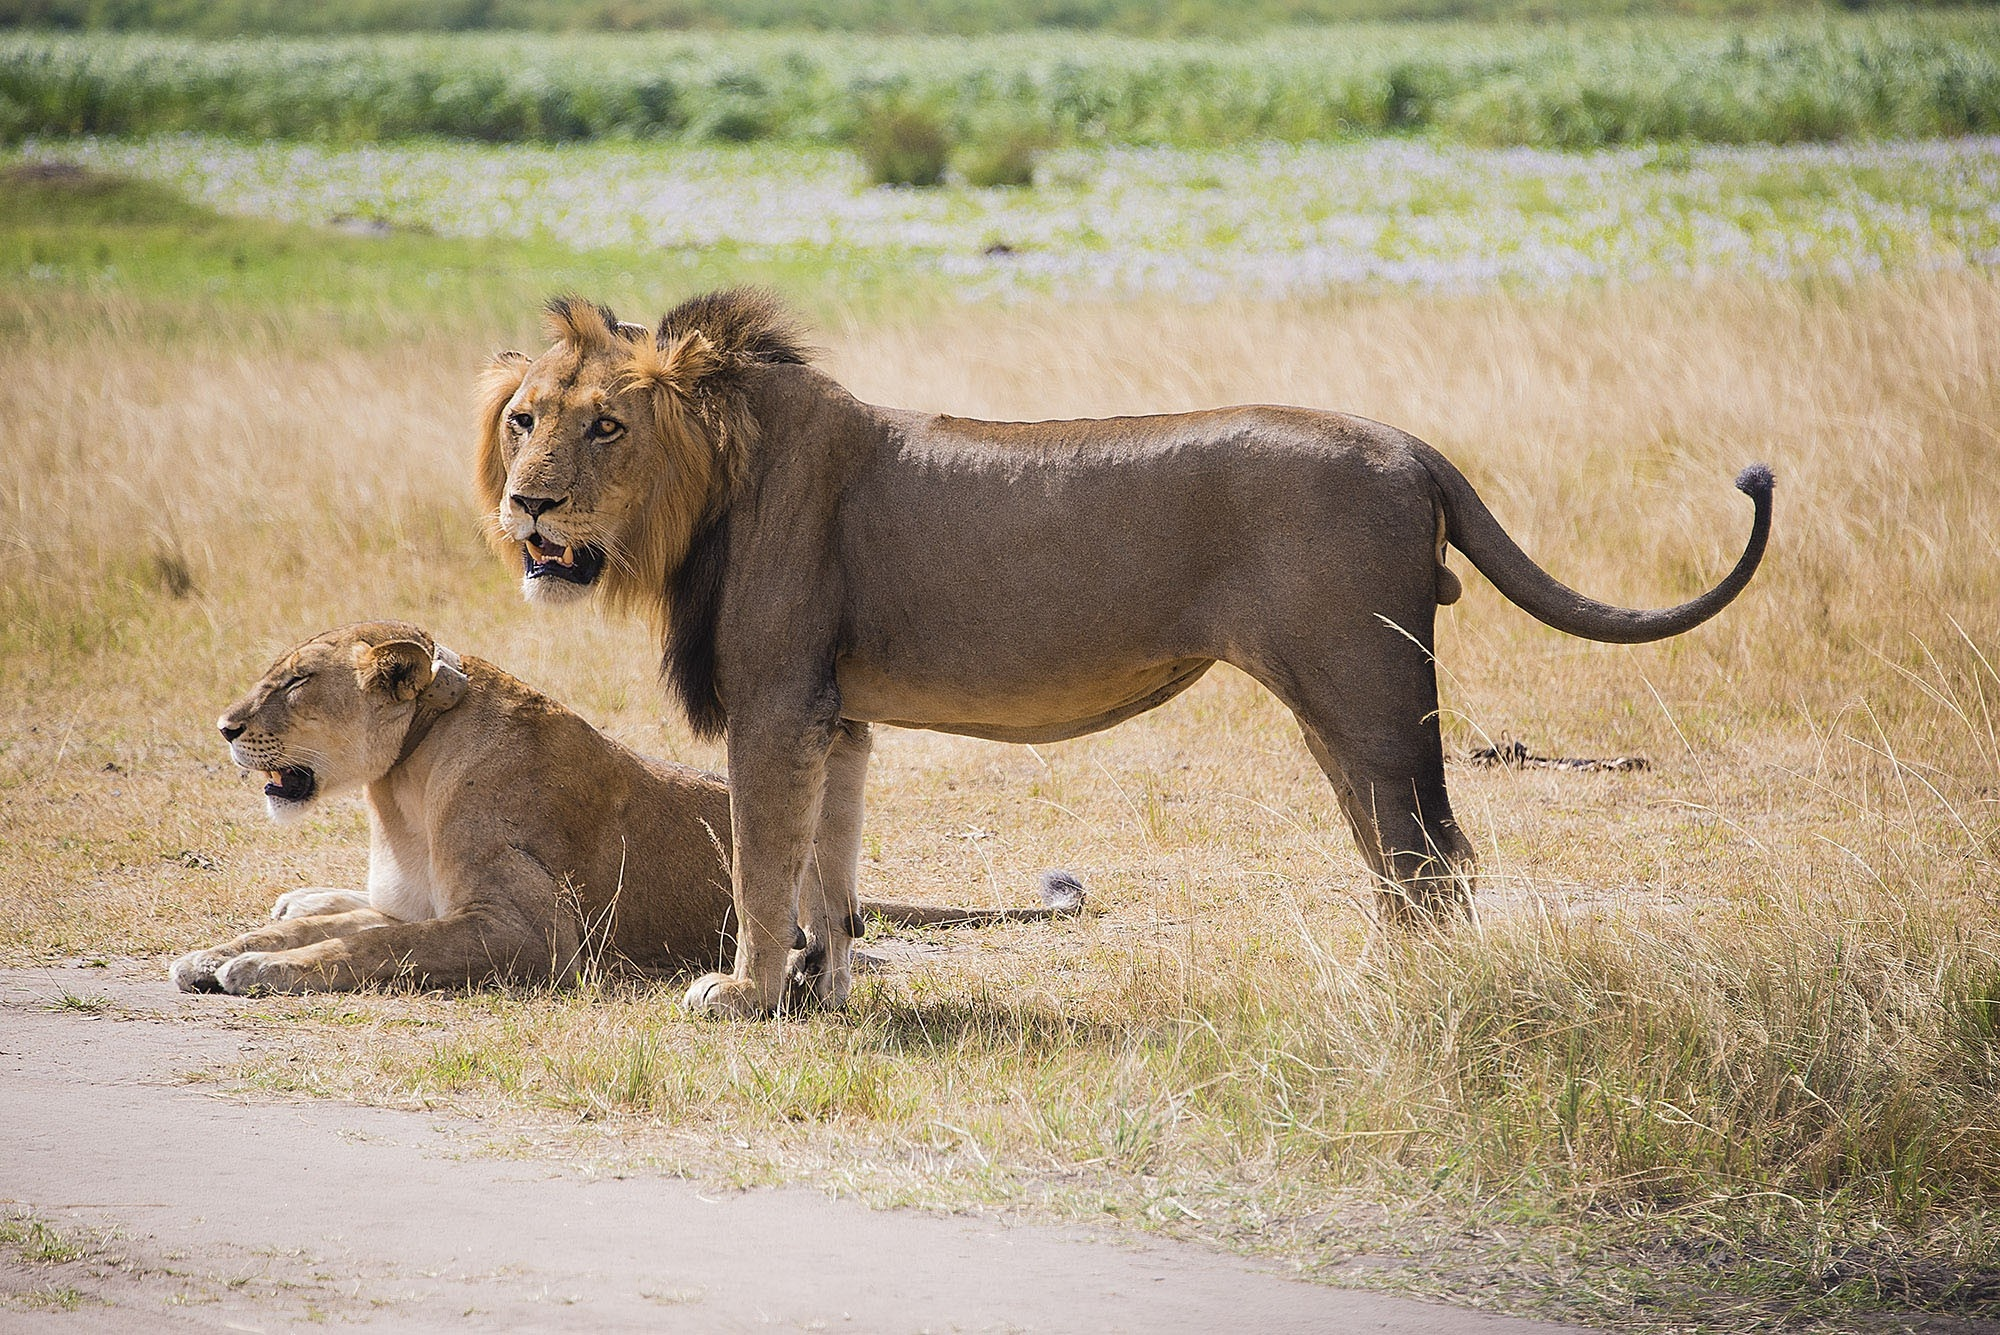lion: (468, 282, 1786, 1041), (164, 608, 1101, 1012)
